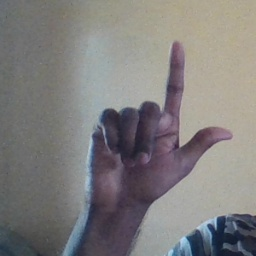L: (84, 40, 235, 206)
